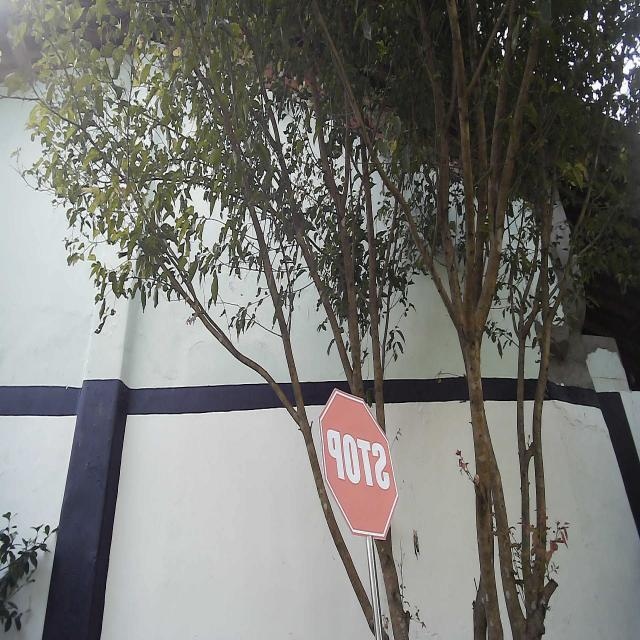stop: (316, 384, 401, 544)
